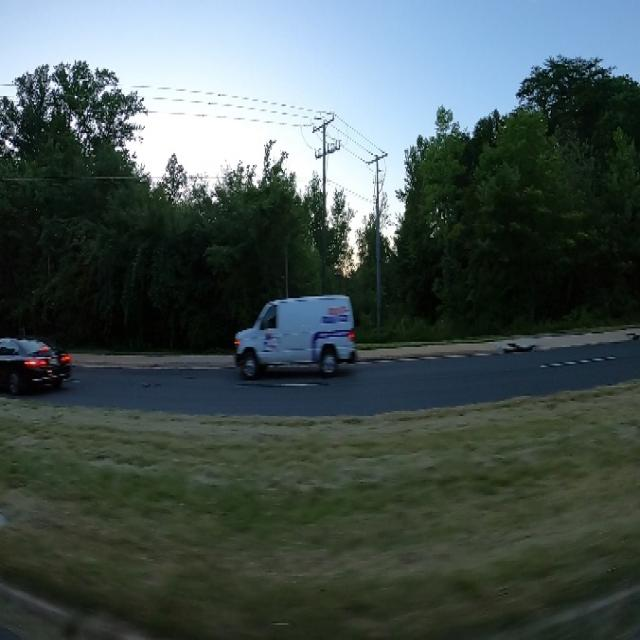cars: (228, 279, 364, 387), (0, 310, 76, 415)
